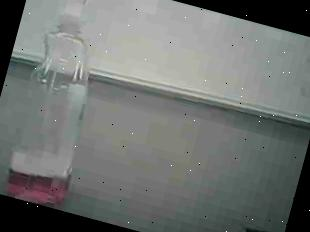hazard: (0, 0, 148, 216)
